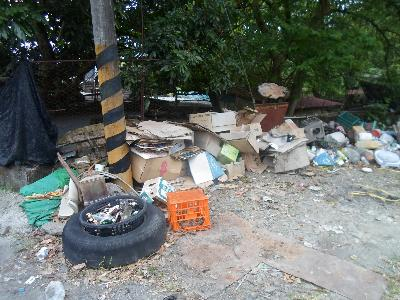box: (129, 152, 185, 183), (189, 111, 236, 132)
plastic_bag: (18, 166, 78, 228)
plate: (375, 150, 398, 166)
tire: (62, 203, 168, 268)
